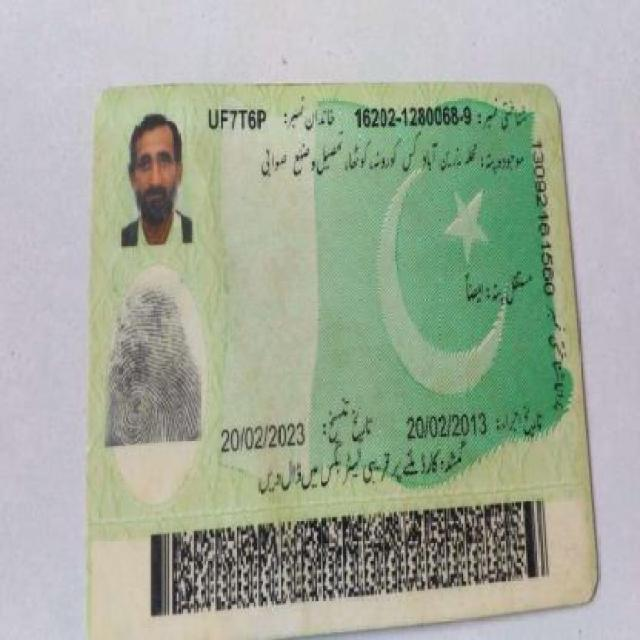Back: (80, 75, 597, 603)
